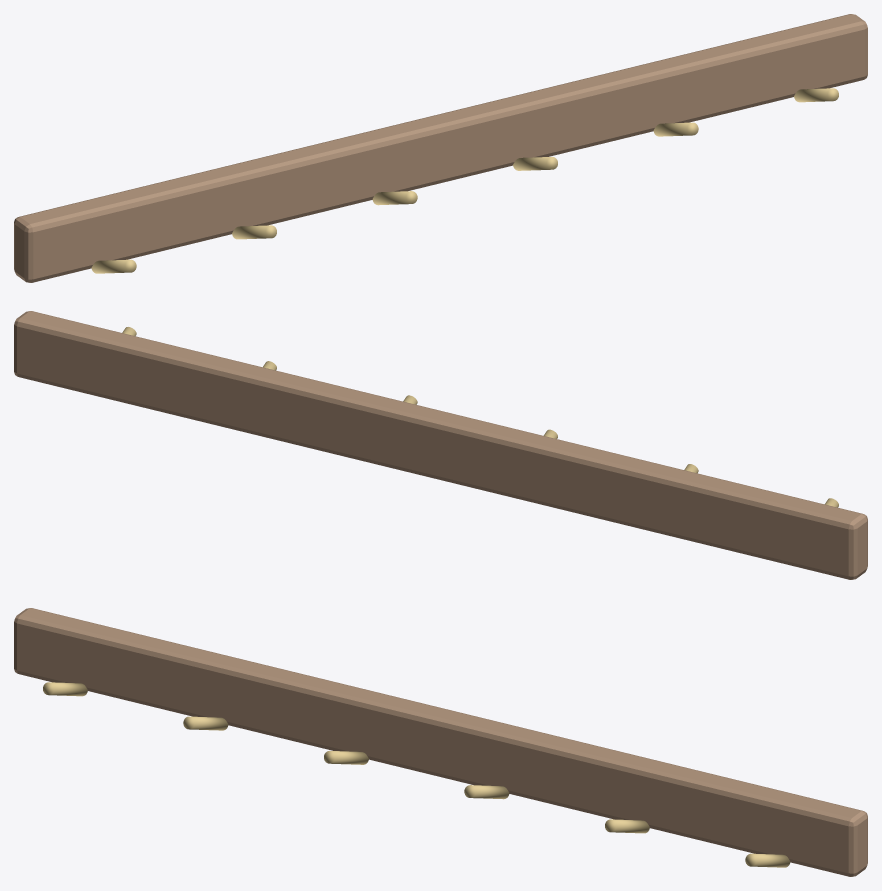
Rendered from coat_rack.fbx.
3 views of the same model, one above another, from view 1: azimuth 30°, elevation 25°; view 2: azimuth 150°, elevation 25°; view 3: azimuth 330°, elevation 25° (orthographic).
Visible parts, largest first — view 1: coat_rack; view 2: coat_rack; view 3: coat_rack.
Boxes of the visible parts, x1=… form: coat_rack: x1=14, y1=14, x2=867, y2=282; coat_rack: x1=14, y1=311, x2=867, y2=579; coat_rack: x1=14, y1=608, x2=867, y2=876.
Bounding box in the file's own units: 1.2 × 0.0849 × 0.1246.
